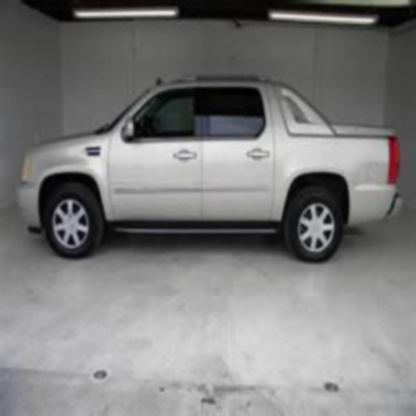Vehicle: (1, 55, 414, 310)
